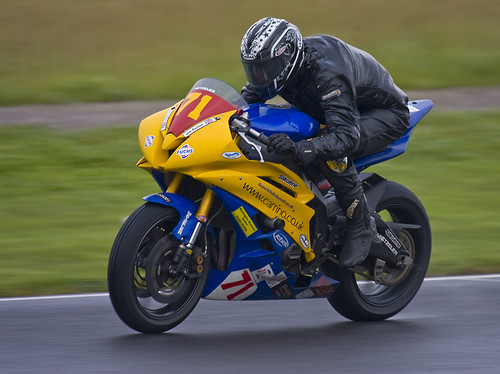helmet: (231, 12, 311, 95)
